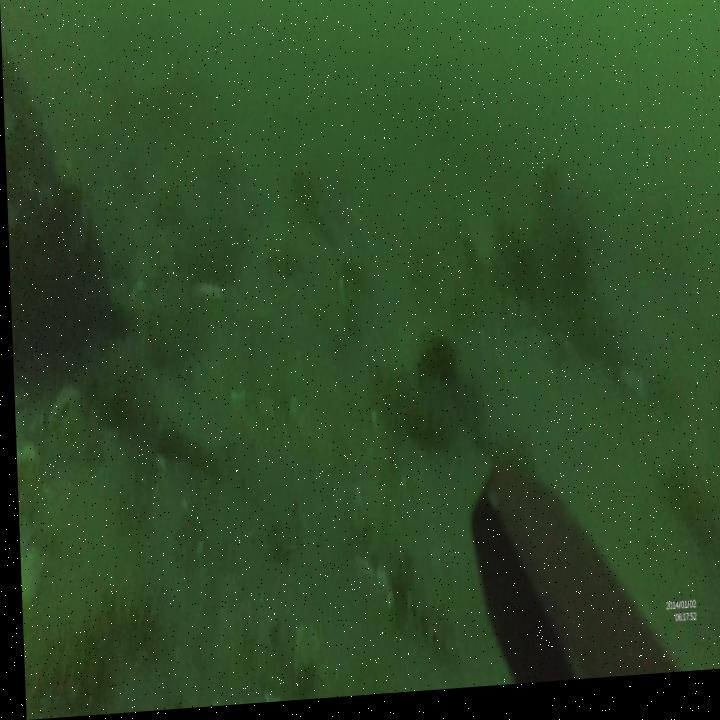echinus: (412, 333, 454, 394)
